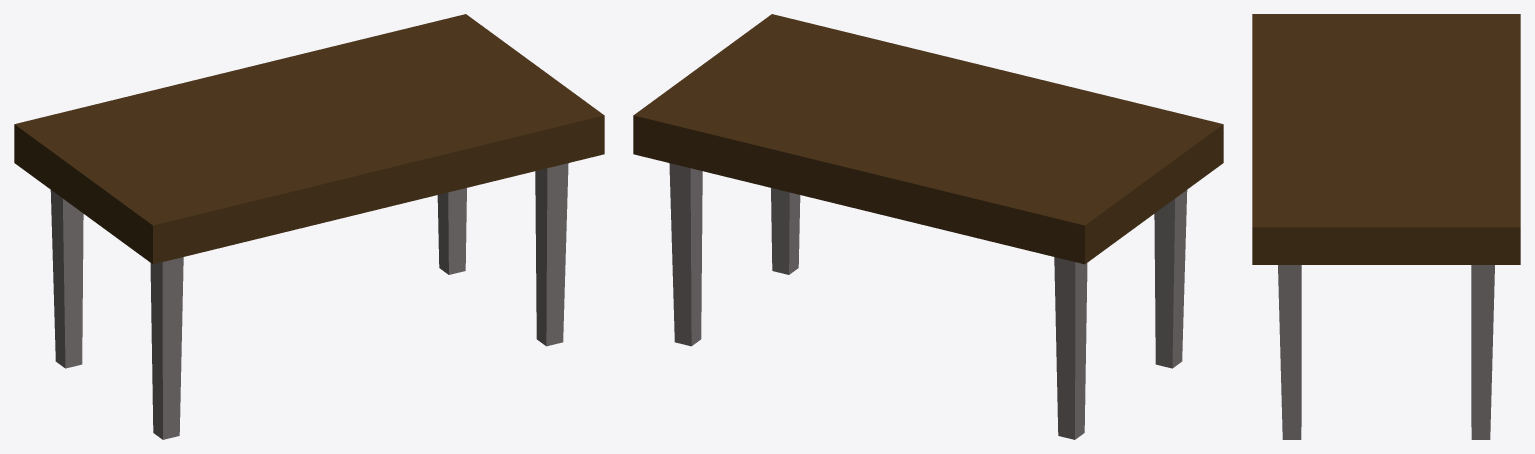
The model's file is Table.fbx.
3 renders of one model, left to right at view 1: azimuth 30°, elevation 25°; view 2: azimuth 150°, elevation 25°; view 3: azimuth 270°, elevation 25°, orthographic. The views are drawn at different scales.
Parts seen in each view (by area): view 1: Table; view 2: Table; view 3: Table.
Boxes of the visible parts, <box> form: Table: <box>14,14,604,439</box>; Table: <box>633,14,1223,439</box>; Table: <box>1252,14,1520,439</box>.
Size of the model in its own units: 344 by 169 by 183.
